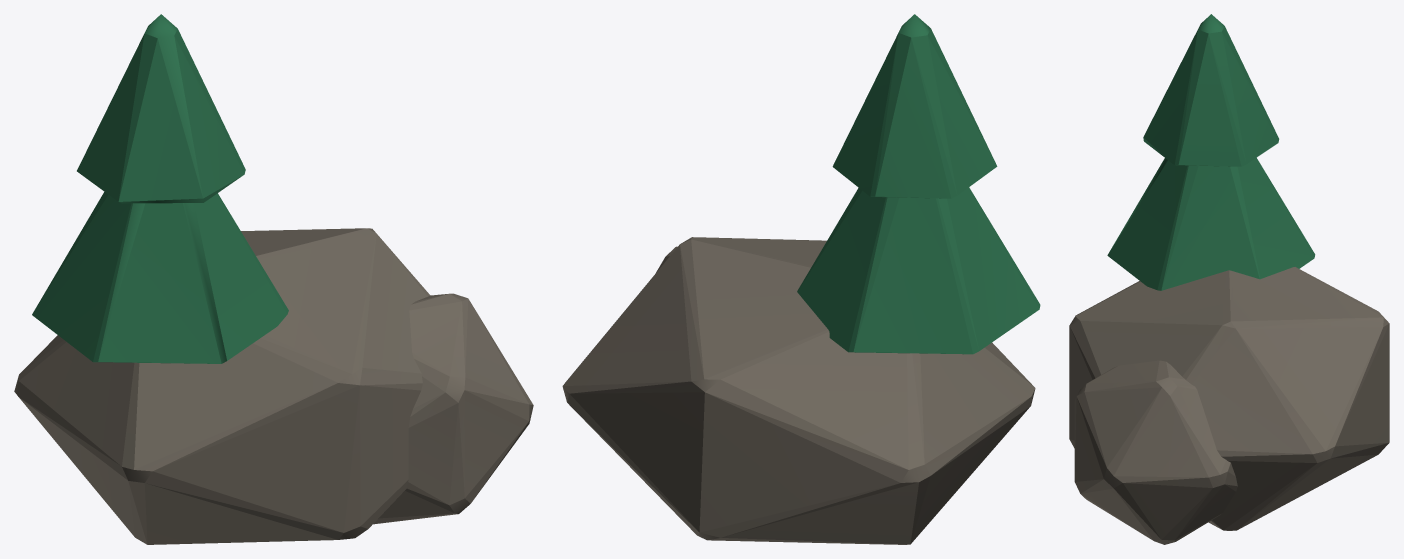
File: prop_boulderpine_lod1.glb
3 views of the same model, side by side, from view 1: azimuth 30°, elevation 25°; view 2: azimuth 150°, elevation 25°; view 3: azimuth 270°, elevation 25° (orthographic). The views are drawn at different scales.
Visible parts, largest first — view 1: prop_boulderpine_lod1; view 2: prop_boulderpine_lod1; view 3: prop_boulderpine_lod1.
Boxes of the visible parts, <box> form: prop_boulderpine_lod1: <box>14,14,533,544</box>; prop_boulderpine_lod1: <box>562,14,1040,544</box>; prop_boulderpine_lod1: <box>1069,14,1389,544</box>.
Bounding box in the file's own units: 2.1 × 2.62 × 1.76.
